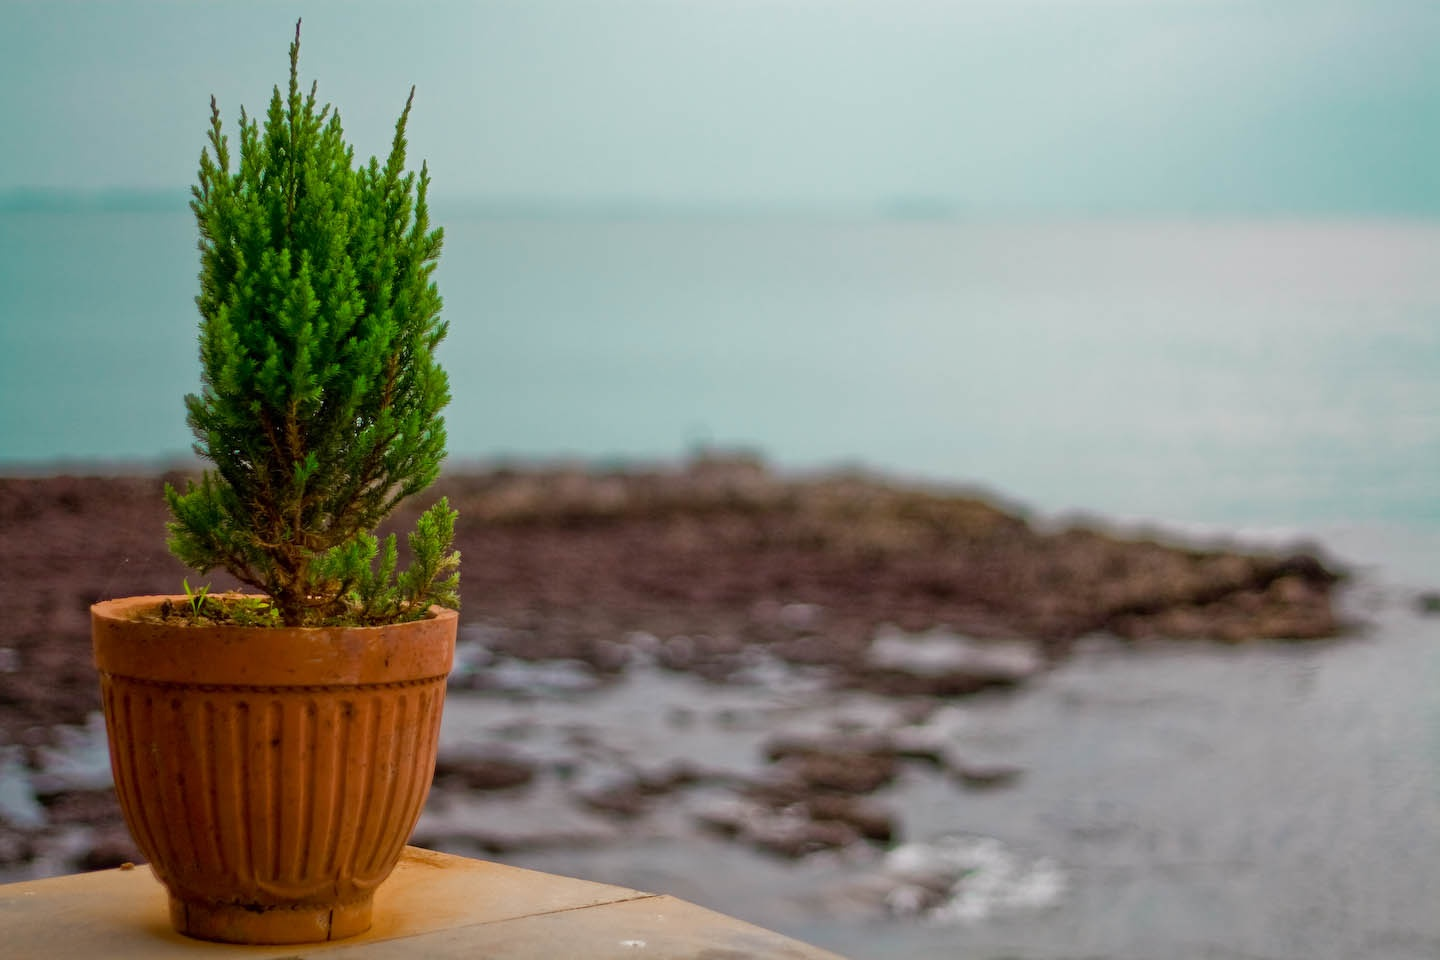flowerpot: (97, 600, 457, 944)
